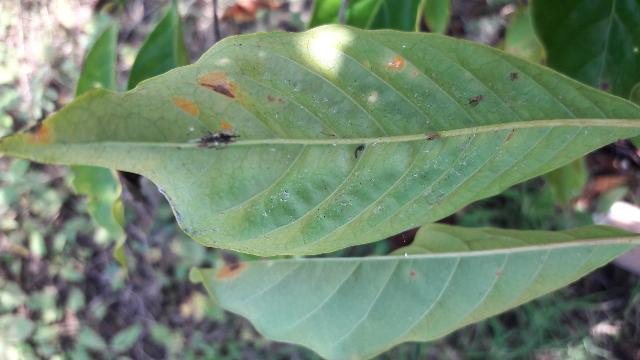rust_level_1: (0, 22, 640, 254)
